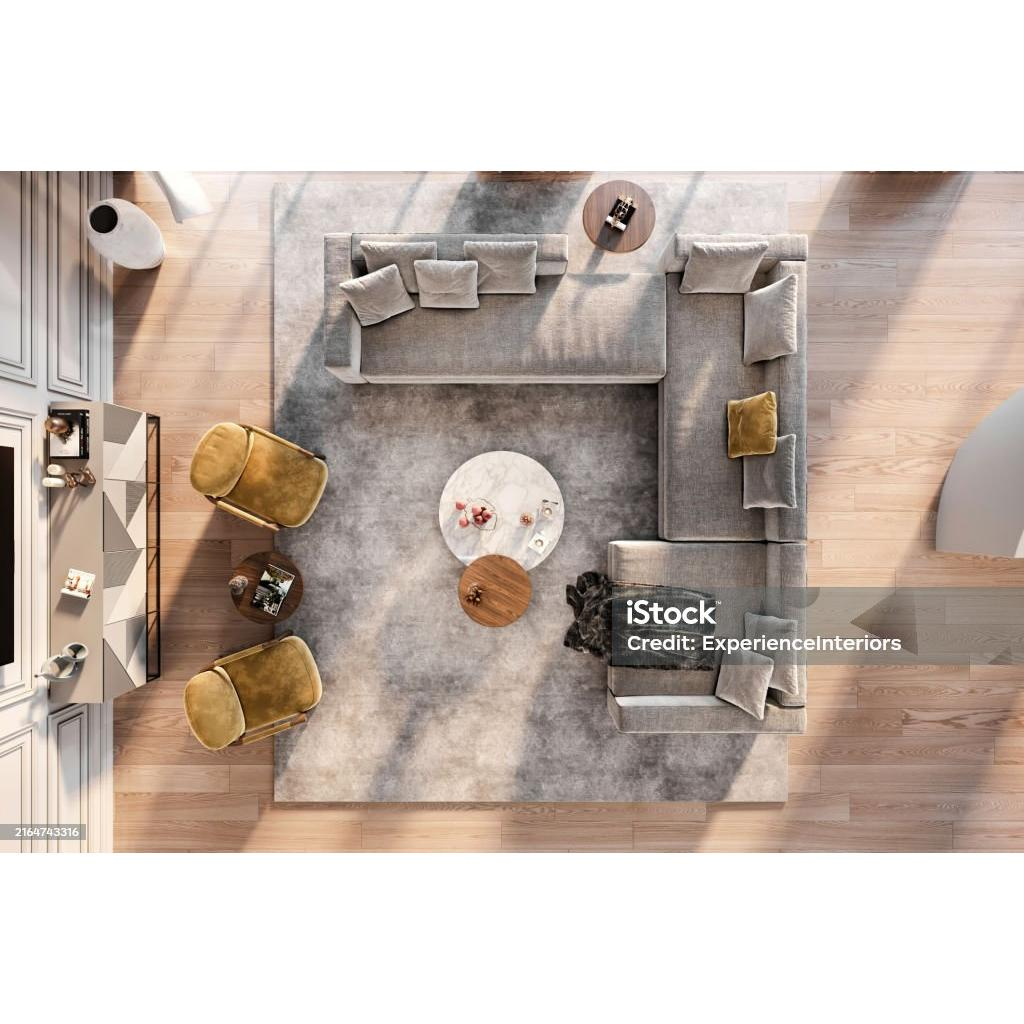TV stand: (46, 403, 146, 701)
chair: (190, 414, 328, 532), (184, 639, 324, 753)
chair-bed: (612, 544, 806, 734)
coffee table: (439, 451, 563, 627)
floor vase: (87, 199, 165, 269)
rug: (274, 186, 790, 804)
side table: (228, 551, 306, 625)
sofa: (322, 232, 662, 380), (667, 234, 807, 542)
window: (106, 171, 480, 177), (592, 172, 842, 178)
